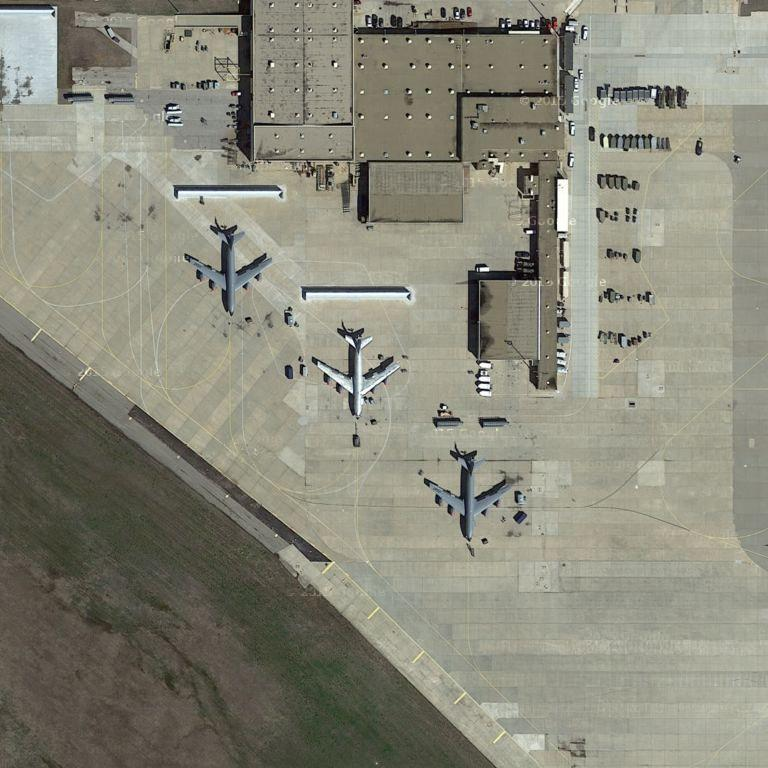E-8: (311, 326, 401, 419)
KC-135: (425, 449, 517, 546), (182, 223, 274, 318)
